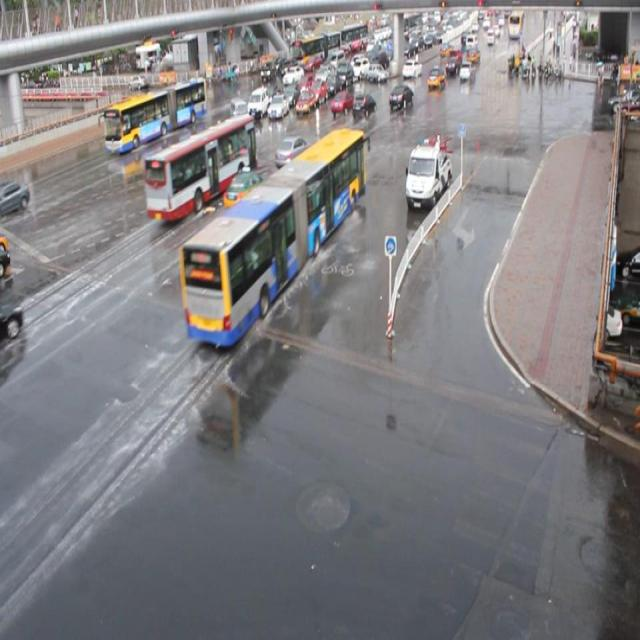bus: (403, 142, 450, 209)
car: (223, 166, 269, 207), (274, 135, 312, 168), (1, 180, 31, 216), (329, 90, 356, 116), (351, 92, 376, 118), (388, 84, 413, 108), (292, 90, 314, 116), (304, 80, 325, 106), (262, 81, 284, 105), (266, 95, 287, 118), (279, 82, 299, 105), (291, 75, 311, 96)
truck: (244, 88, 267, 120), (228, 97, 248, 132)
van: (178, 126, 365, 348), (142, 114, 257, 221), (103, 76, 207, 153)
